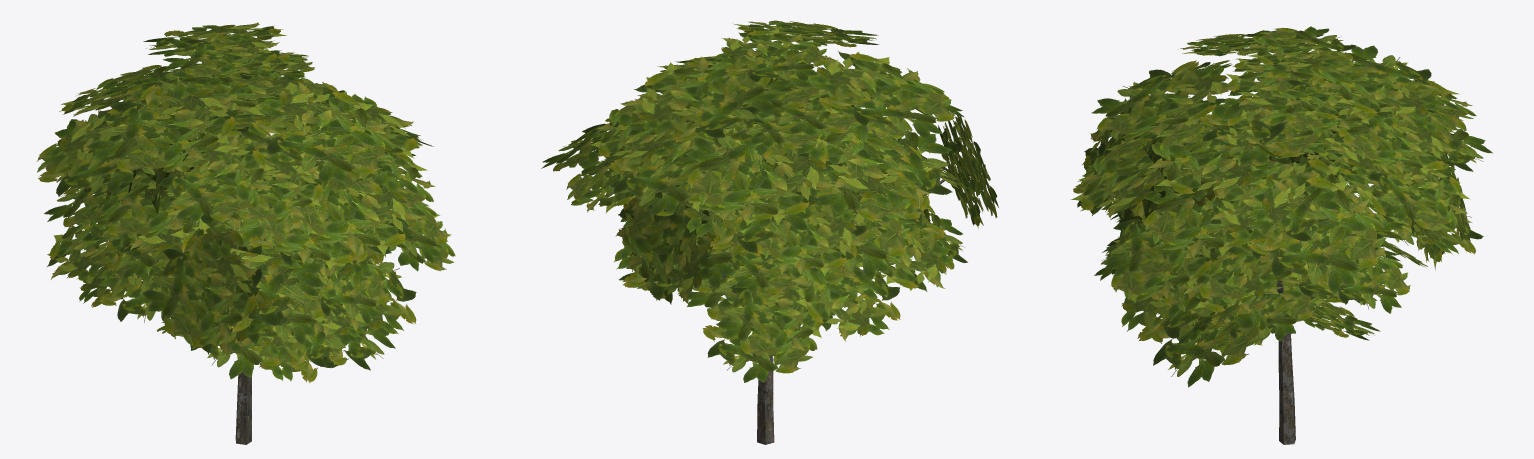
The model's file is tree_b.glb.
3 renders of one model, left to right at view 1: azimuth 30°, elevation 25°; view 2: azimuth 150°, elevation 25°; view 3: azimuth 270°, elevation 25°, orthographic. The views are drawn at different scales.
Parts seen in each view (by area): view 1: tree_b; view 2: tree_b; view 3: tree_b.
Boxes of the visible parts, <box> form: tree_b: <box>36,22,455,444</box>; tree_b: <box>541,20,998,444</box>; tree_b: <box>1070,26,1492,444</box>.
Bounding box in the file's own units: 13.03 × 11.47 × 12.8.
Materials: 2 (2 with a texture image).
